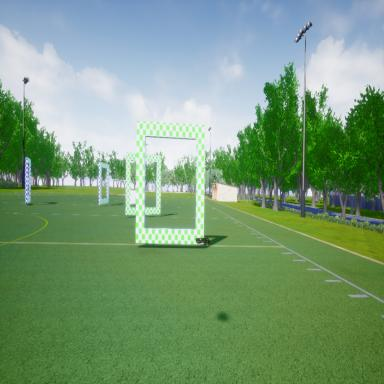gate: (134, 116, 208, 251), (123, 145, 165, 220), (94, 156, 112, 212), (23, 152, 33, 209)
